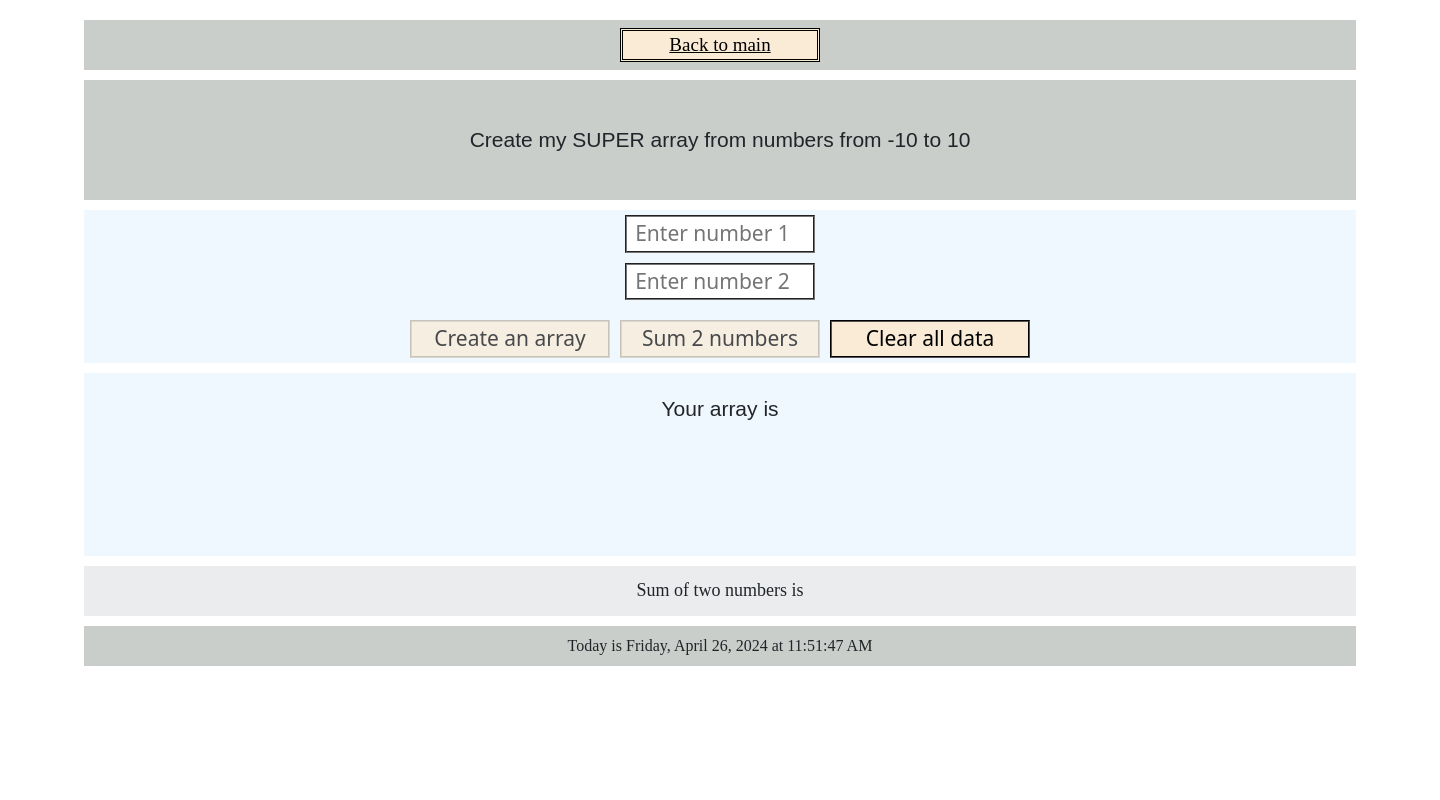
Scenario: clear data › clear data with only sum
In the number field with id "num1": (720,234) [625,215,815,253], type "5"
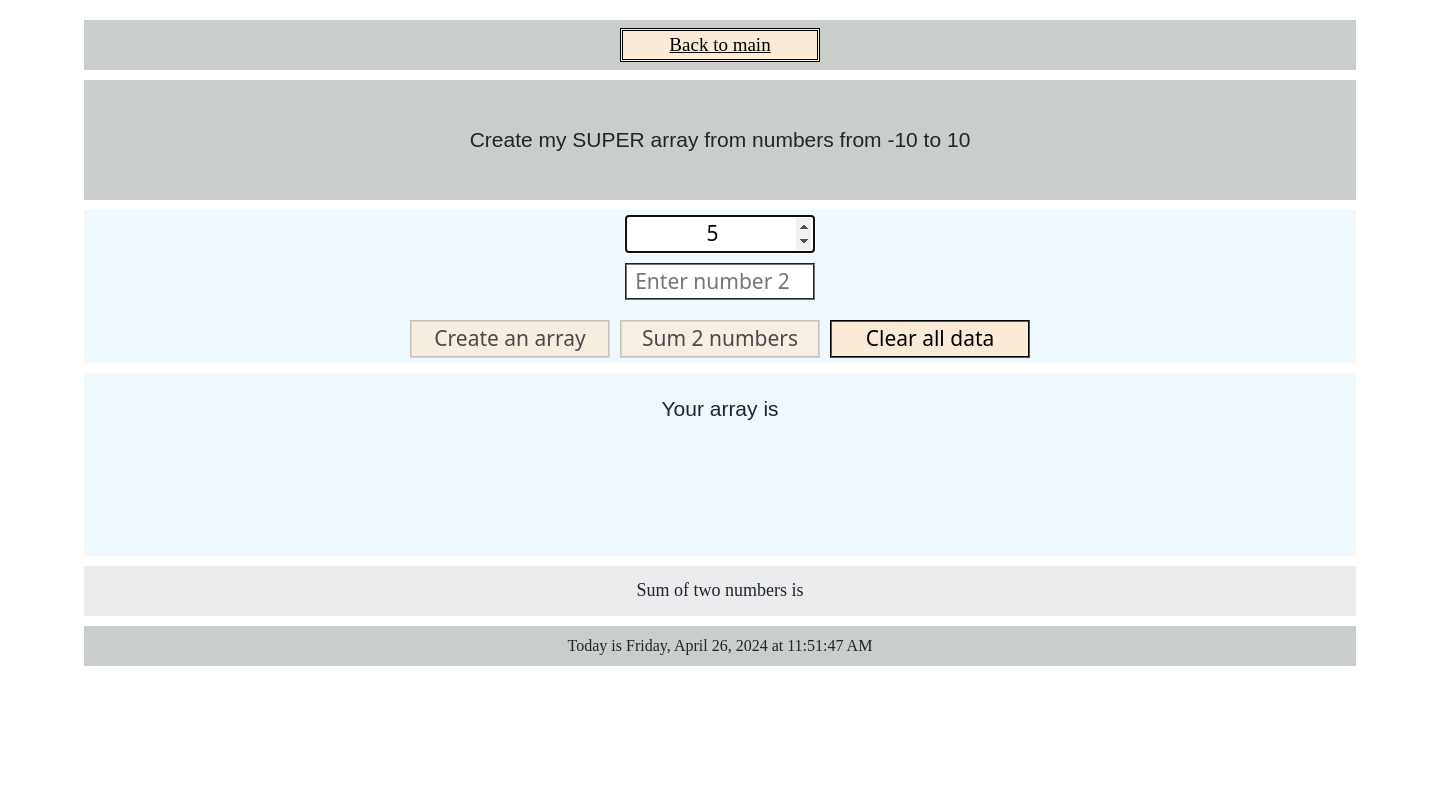
In the number field with id "num2": (720,282) [625,263,815,301], type "7"
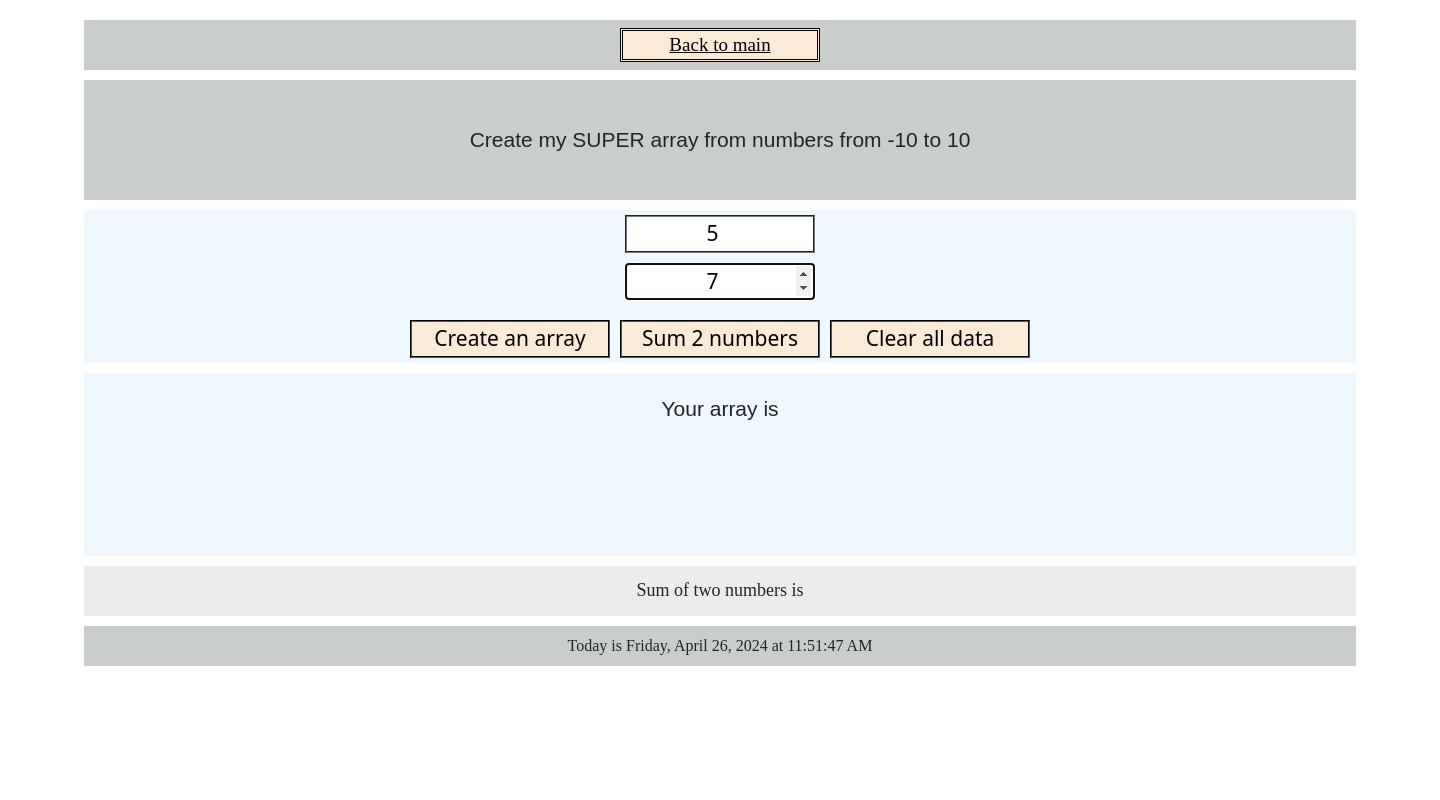
Click the button with id "createSum": (720,339) [620,320,820,358]
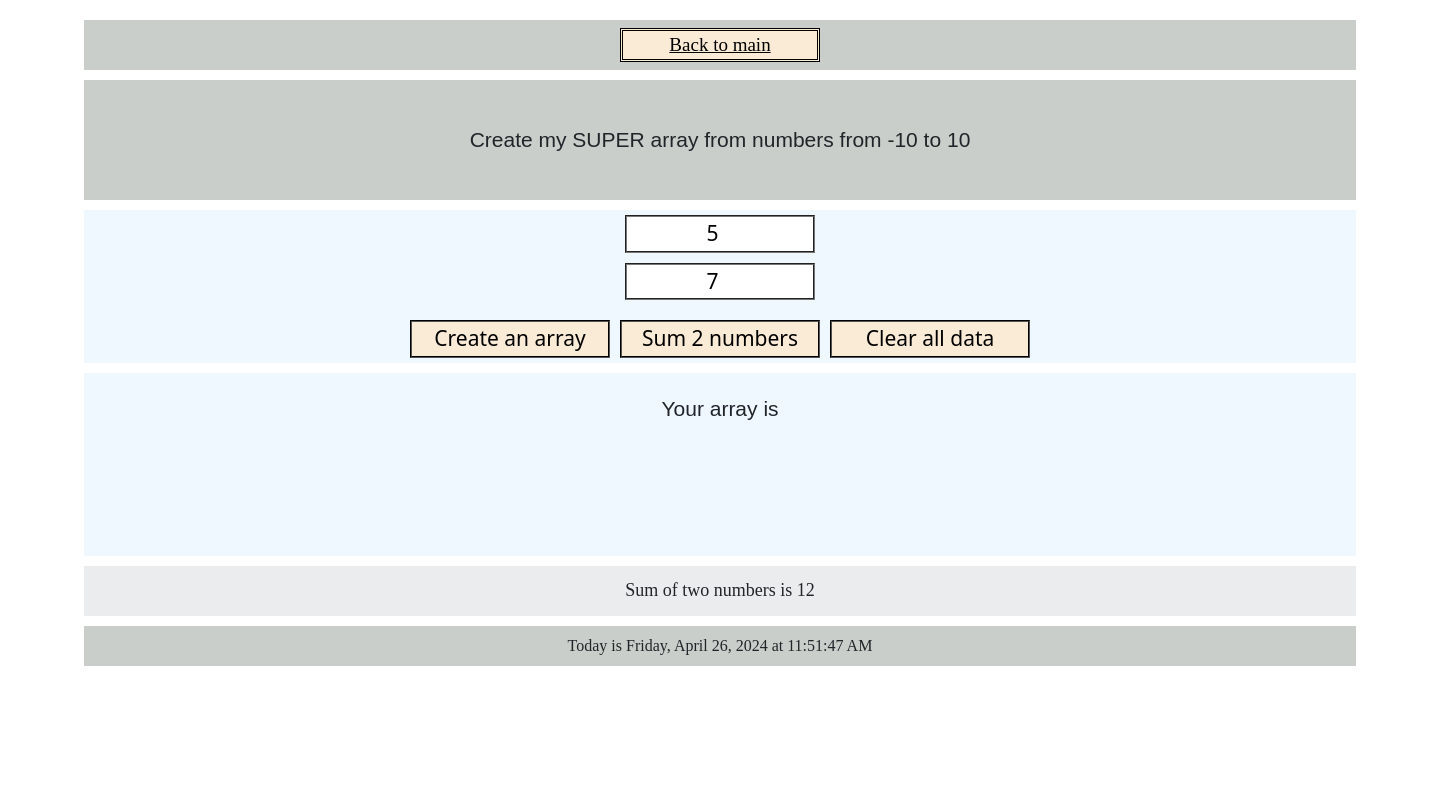
Expected: the text with id "sum" shows "12", [84,566,1356,616]
Click the button with id "reset": (930,339) [830,320,1030,358]
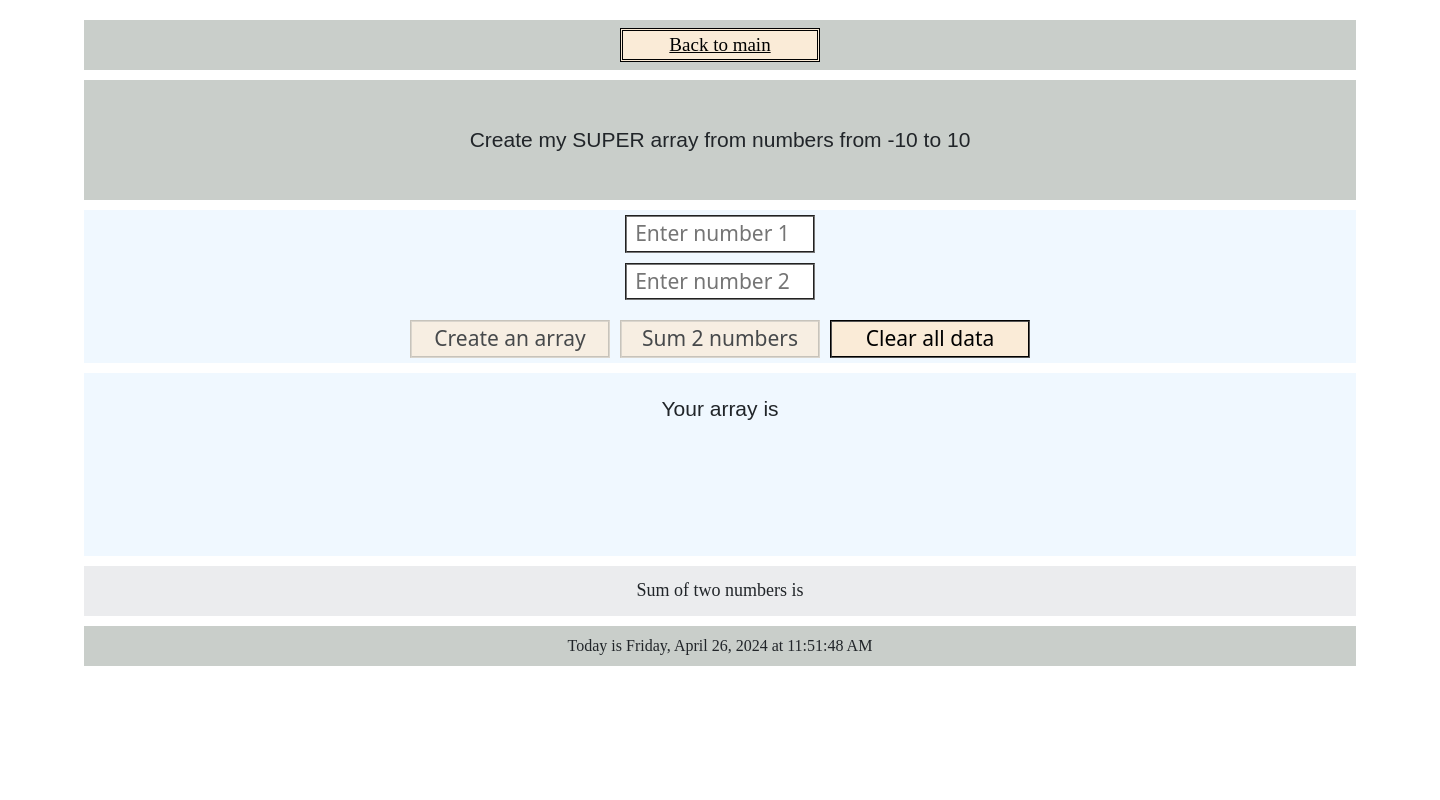
Expected: the text with id "sum" no longer shows "12"
